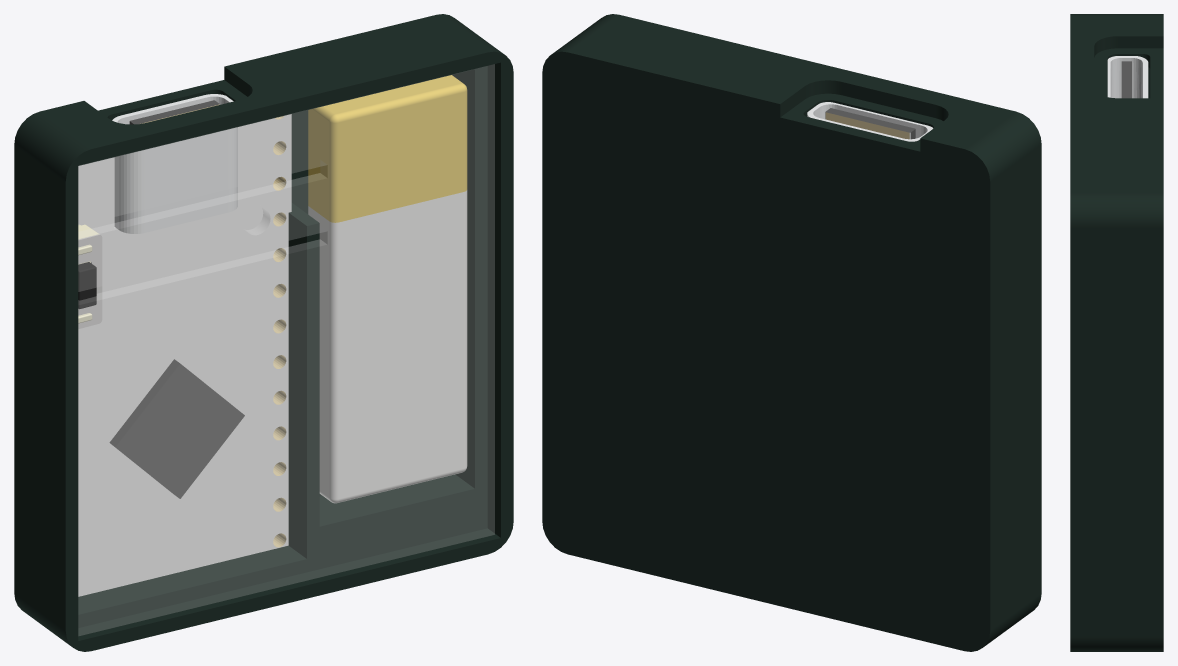
Rendered from tracker.glb.
3 views of the same model, side by side, from view 1: azimuth 30°, elevation 25°; view 2: azimuth 150°, elevation 25°; view 3: azimuth 270°, elevation 25° (orthographic). The views are drawn at different scales.
Visible parts, largest first — view 1: 002-Smol-Lid, 001-Smol-Case-2.0, nRF52840 Reference, _Battery, TL 3330 Tactile Button; view 2: 001-Smol-Case-2.0, nRF52840 Reference; view 3: 001-Smol-Case-2.0, nRF52840 Reference.
Part boxes in pixels (x1,y1,x2,y2): 002-Smol-Lid: [78, 64, 494, 635]; 001-Smol-Case-2.0: [14, 14, 513, 651]; nRF52840 Reference: [78, 94, 291, 596]; _Battery: [308, 75, 467, 503]; TL 3330 Tactile Button: [78, 224, 102, 328]; 001-Smol-Case-2.0: [542, 14, 1041, 651]; nRF52840 Reference: [807, 102, 933, 141]; 001-Smol-Case-2.0: [1070, 14, 1163, 651]; nRF52840 Reference: [1107, 56, 1148, 98].
Bounding box in the file's own units: 0.894 × 0.9575 × 0.1778.
